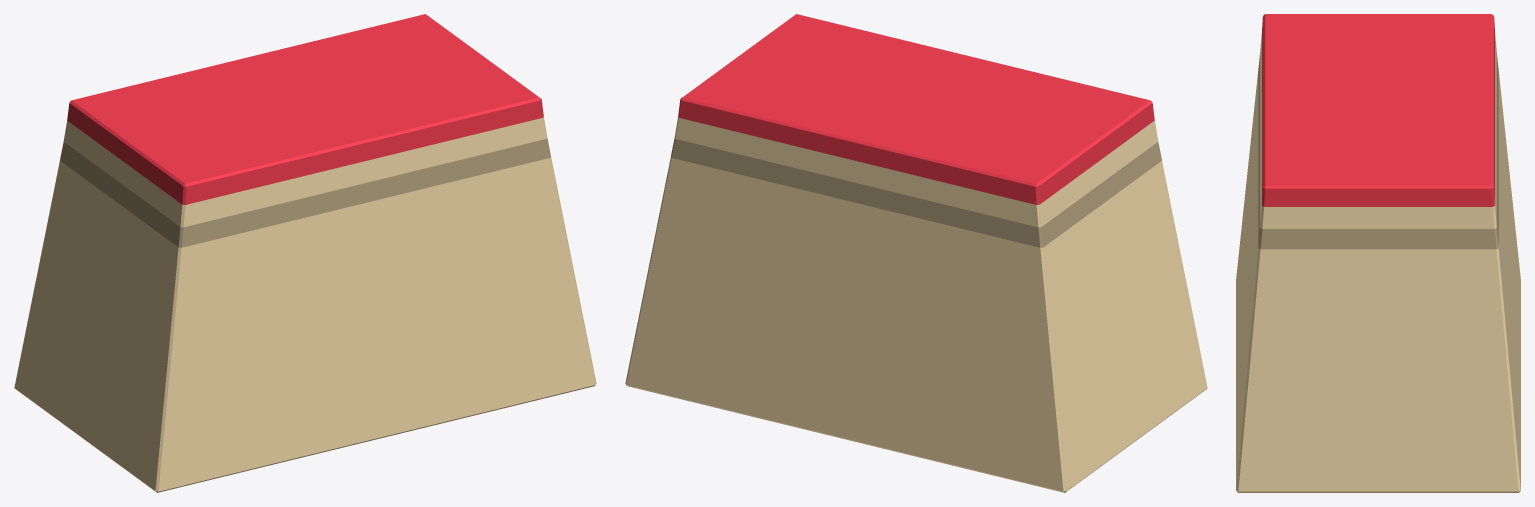
The model's file is House_24.fbx.
The picture shows the model from 3 angles, left to right: view 1: azimuth 30°, elevation 25°; view 2: azimuth 150°, elevation 25°; view 3: azimuth 270°, elevation 25°; orthographic projection.
Parts seen in each view (by area): view 1: House_24; view 2: House_24; view 3: House_24.
Boxes of the visible parts, <box> form: House_24: <box>14,14,596,492</box>; House_24: <box>625,14,1207,492</box>; House_24: <box>1236,14,1520,492</box>.
Size of the model in its own units: 112 by 70.31 by 63.19.
